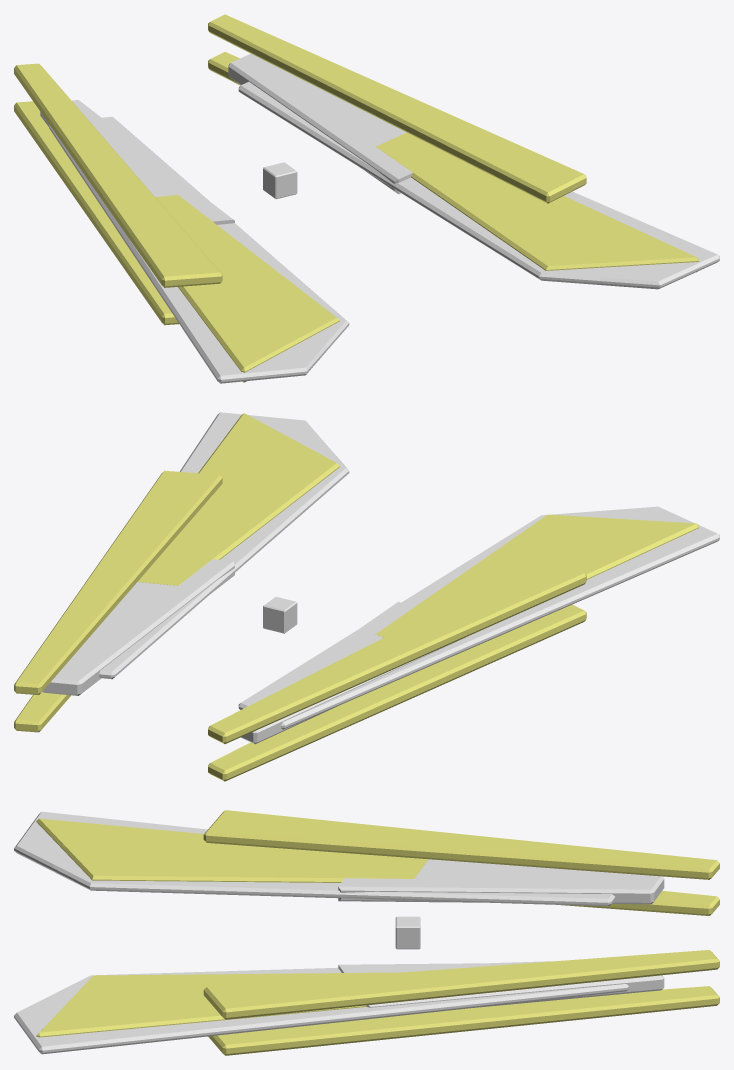
Rendered from PlayerModel_v002.fbx.
3 renders of one model, top to bottom at view 1: azimuth 30°, elevation 25°; view 2: azimuth 150°, elevation 25°; view 3: azimuth 270°, elevation 25°, orthographic. The views are drawn at different scales.
Visible parts, largest first — view 1: PlayerFrame, PlayerWingsR, PlayerRotators.001, PlayerWingsL, PlayerRotators.003, PlayerRotators, PlayerCore; view 2: PlayerFrame, PlayerRotators.003, PlayerWingsR, PlayerRotators.001, PlayerWingsL, PlayerRotators, PlayerRotators.002, PlayerCore; view 3: PlayerFrame, PlayerWingsL, PlayerRotators.003, PlayerRotators.001, PlayerRotators.002, PlayerWingsR, PlayerRotators, PlayerCore.
Part boxes in pixels (bbox=[...]): PlayerFrame: bbox=[40, 53, 719, 383]; PlayerWingsR: bbox=[376, 132, 698, 272]; PlayerRotators.001: bbox=[208, 14, 586, 203]; PlayerWingsL: bbox=[155, 195, 339, 382]; PlayerRotators.003: bbox=[14, 63, 222, 287]; PlayerRotators: bbox=[14, 101, 178, 325]; PlayerCore: bbox=[263, 162, 297, 198]; PlayerFrame: bbox=[42, 412, 719, 744]; PlayerRotators.003: bbox=[208, 555, 586, 743]; PlayerWingsR: bbox=[138, 413, 339, 585]; PlayerRotators.001: bbox=[14, 470, 222, 694]; PlayerWingsL: bbox=[376, 514, 698, 637]; PlayerRotators: bbox=[208, 604, 586, 781]; PlayerRotators.002: bbox=[14, 692, 70, 732]; PlayerCore: bbox=[263, 597, 297, 633]; PlayerFrame: bbox=[14, 811, 664, 1054]; PlayerWingsL: bbox=[36, 818, 428, 882]; PlayerRotators.003: bbox=[203, 810, 719, 879]; PlayerRotators.001: bbox=[203, 950, 719, 1019]; PlayerRotators.002: bbox=[208, 986, 719, 1055]; PlayerWingsR: bbox=[36, 972, 402, 1037]; PlayerRotators: bbox=[561, 890, 719, 915]; PlayerCore: bbox=[395, 916, 420, 949].
Bounding box in the file's own units: 94.86 × 119 × 8.77.
